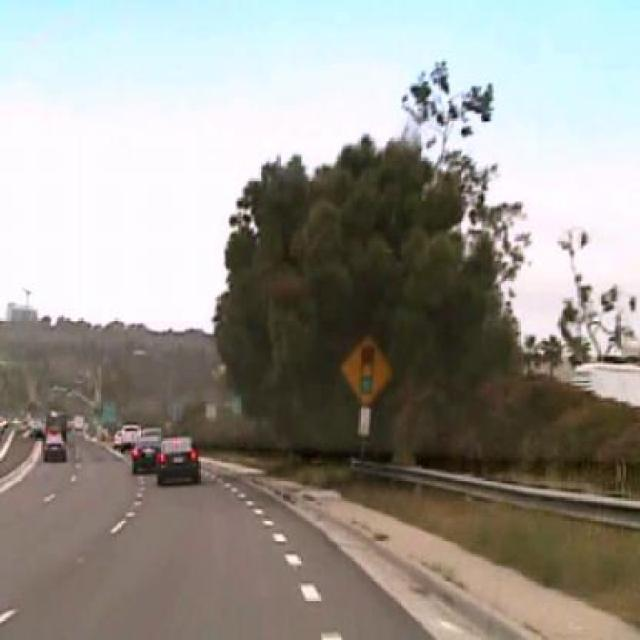signalAhead: (339, 331, 393, 406)
